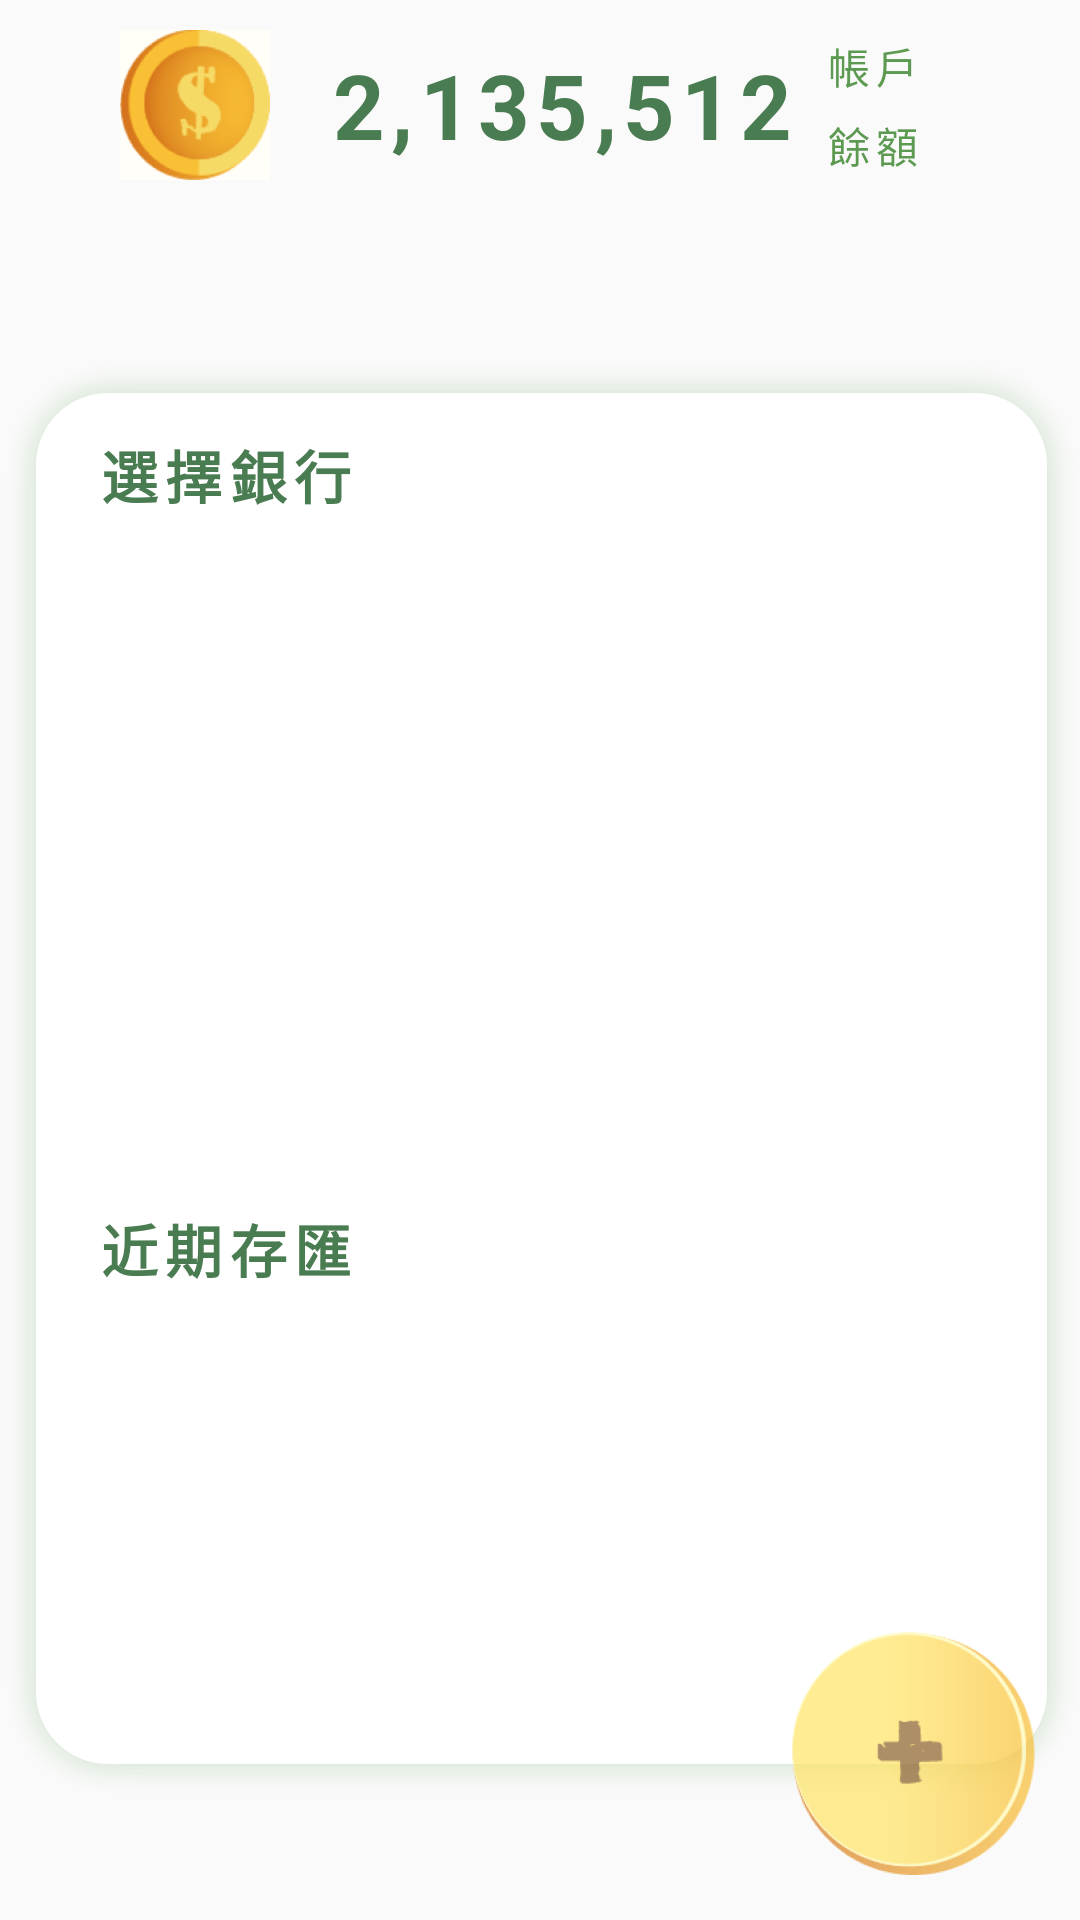

Locate icon controls on the screen. Image size 1080w x 1920h, boxes as (x1, y1, x2, y2).
add: (792, 1632, 1035, 1875)
coin: (120, 30, 270, 180)
